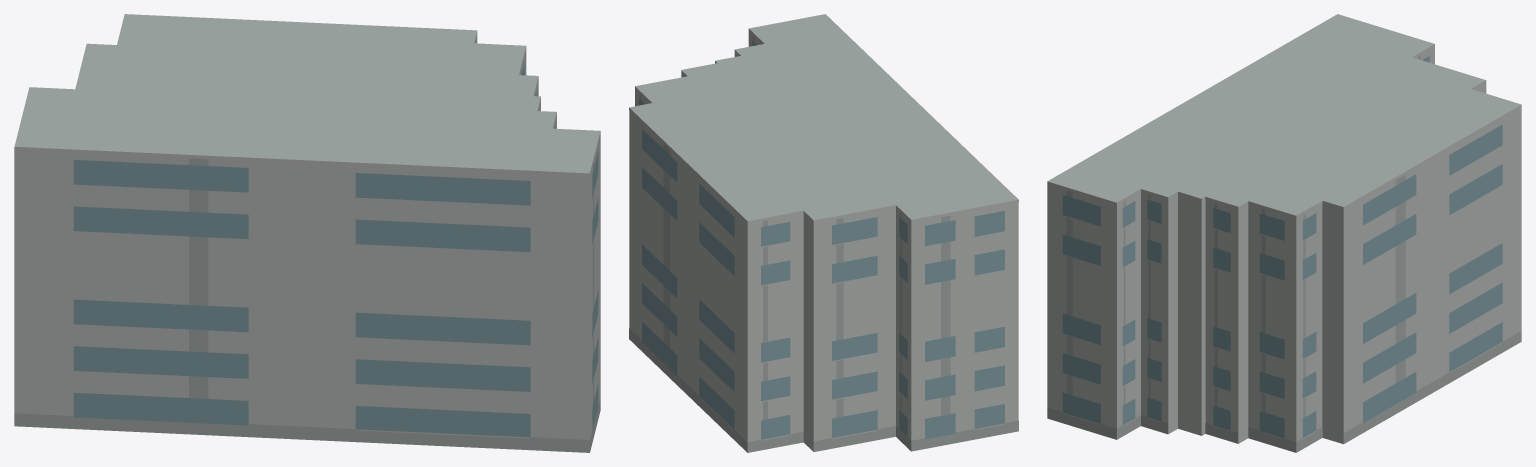
Rendered from survey-upis-32772906.glb.
3 views of the same model, side by side, from view 1: azimuth 30°, elevation 25°; view 2: azimuth 150°, elevation 25°; view 3: azimuth 270°, elevation 25° (orthographic). The views are drawn at different scales.
Visible parts, largest first — view 1: survey-upis-32772906.tmp; view 2: survey-upis-32772906.tmp; view 3: survey-upis-32772906.tmp.
Boxes of the visible parts, x1,y1,x2,y2 form: survey-upis-32772906.tmp: (14,14,600,452); survey-upis-32772906.tmp: (629,14,1018,452); survey-upis-32772906.tmp: (1047,14,1521,452).
Size of the model in its own units: 34.68 by 19 by 34.47.
